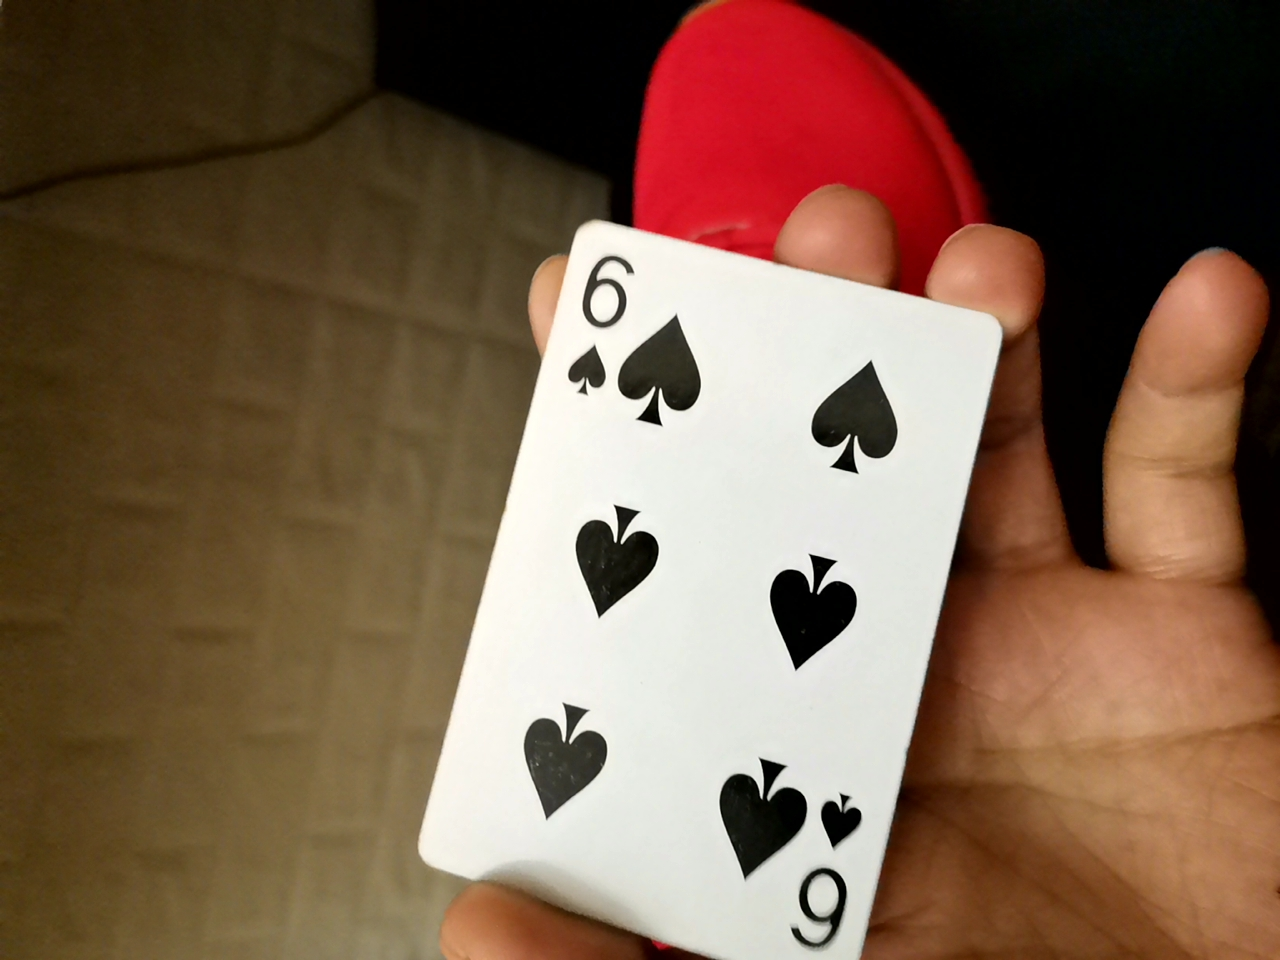ht 6: (413, 232, 999, 960)
